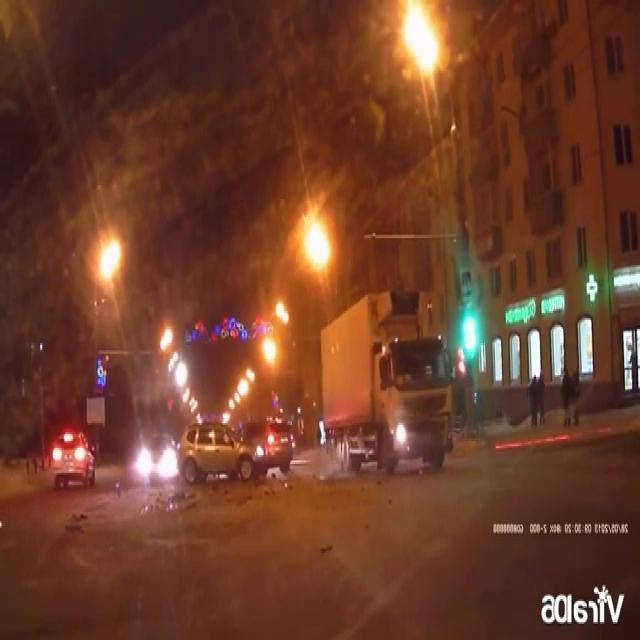accident: (174, 407, 294, 492)
